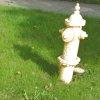a fire hydrant: (61, 2, 87, 84)
